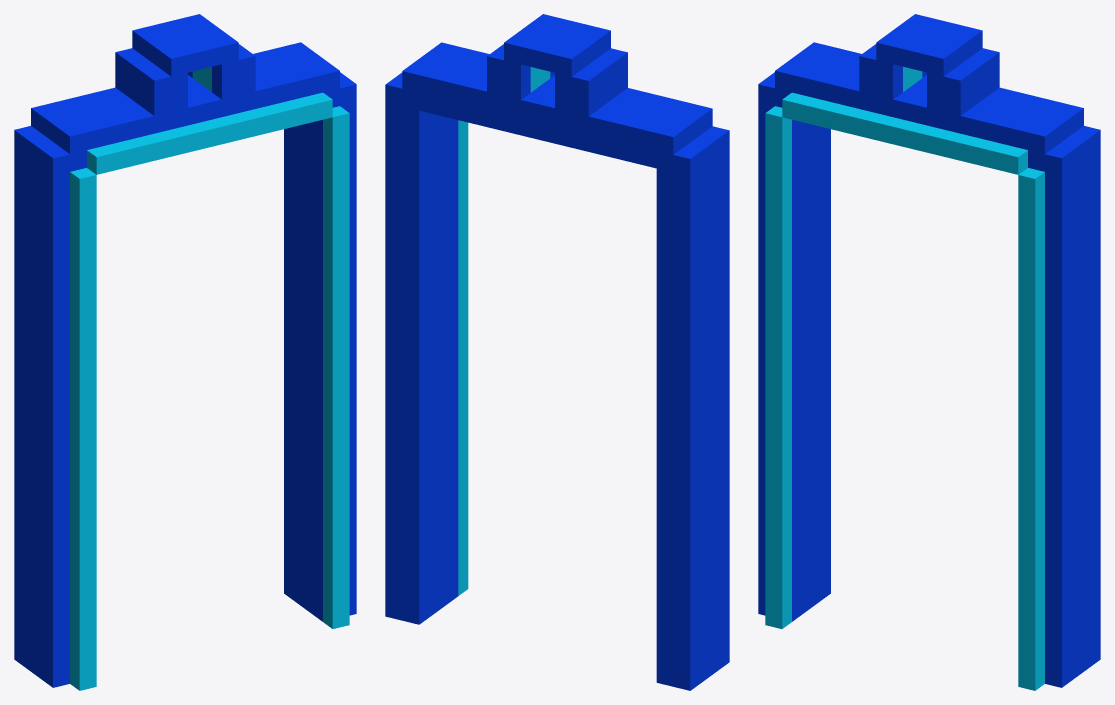
File: porta_contorno.obj
3 renders of one model, left to right at view 1: azimuth 30°, elevation 25°; view 2: azimuth 150°, elevation 25°; view 3: azimuth 330°, elevation 25°, orthographic.
Size of the model in its own units: 1.8 by 3.4 by 0.5.
Materials: 1 (1 with a texture image).
